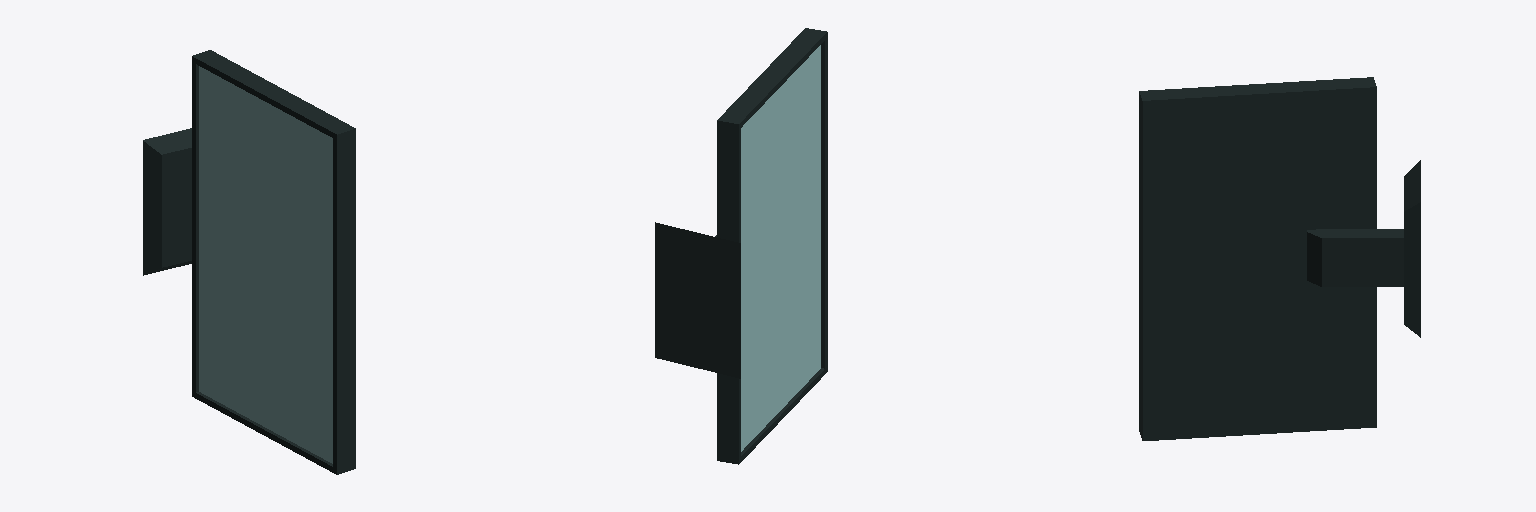
Rendered from monitor.obj.
3 renders of one model, left to right at view 1: azimuth 30°, elevation 25°; view 2: azimuth 150°, elevation 25°; view 3: azimuth 270°, elevation 25°, orthographic.
Visible parts, largest first — view 1: computerScreen; view 2: computerScreen; view 3: computerScreen.
Part boxes in pixels (x1,y1,x2,y2): computerScreen: (143,50,355,474); computerScreen: (655,28,827,464); computerScreen: (1139,77,1420,440).
Bounding box in the file's own units: 1.04 × 3.93 × 2.94.